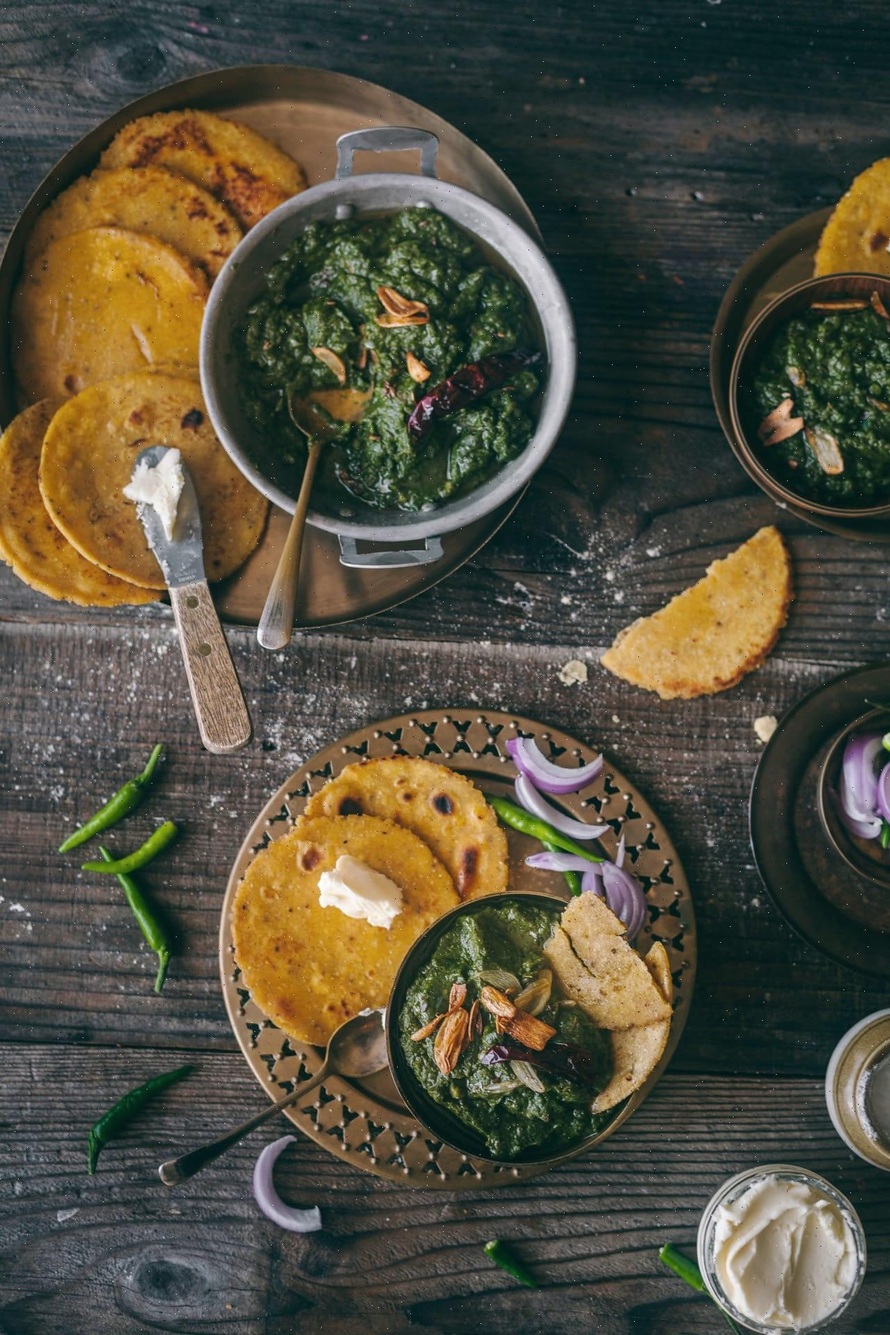saag: (236, 209, 547, 513)
